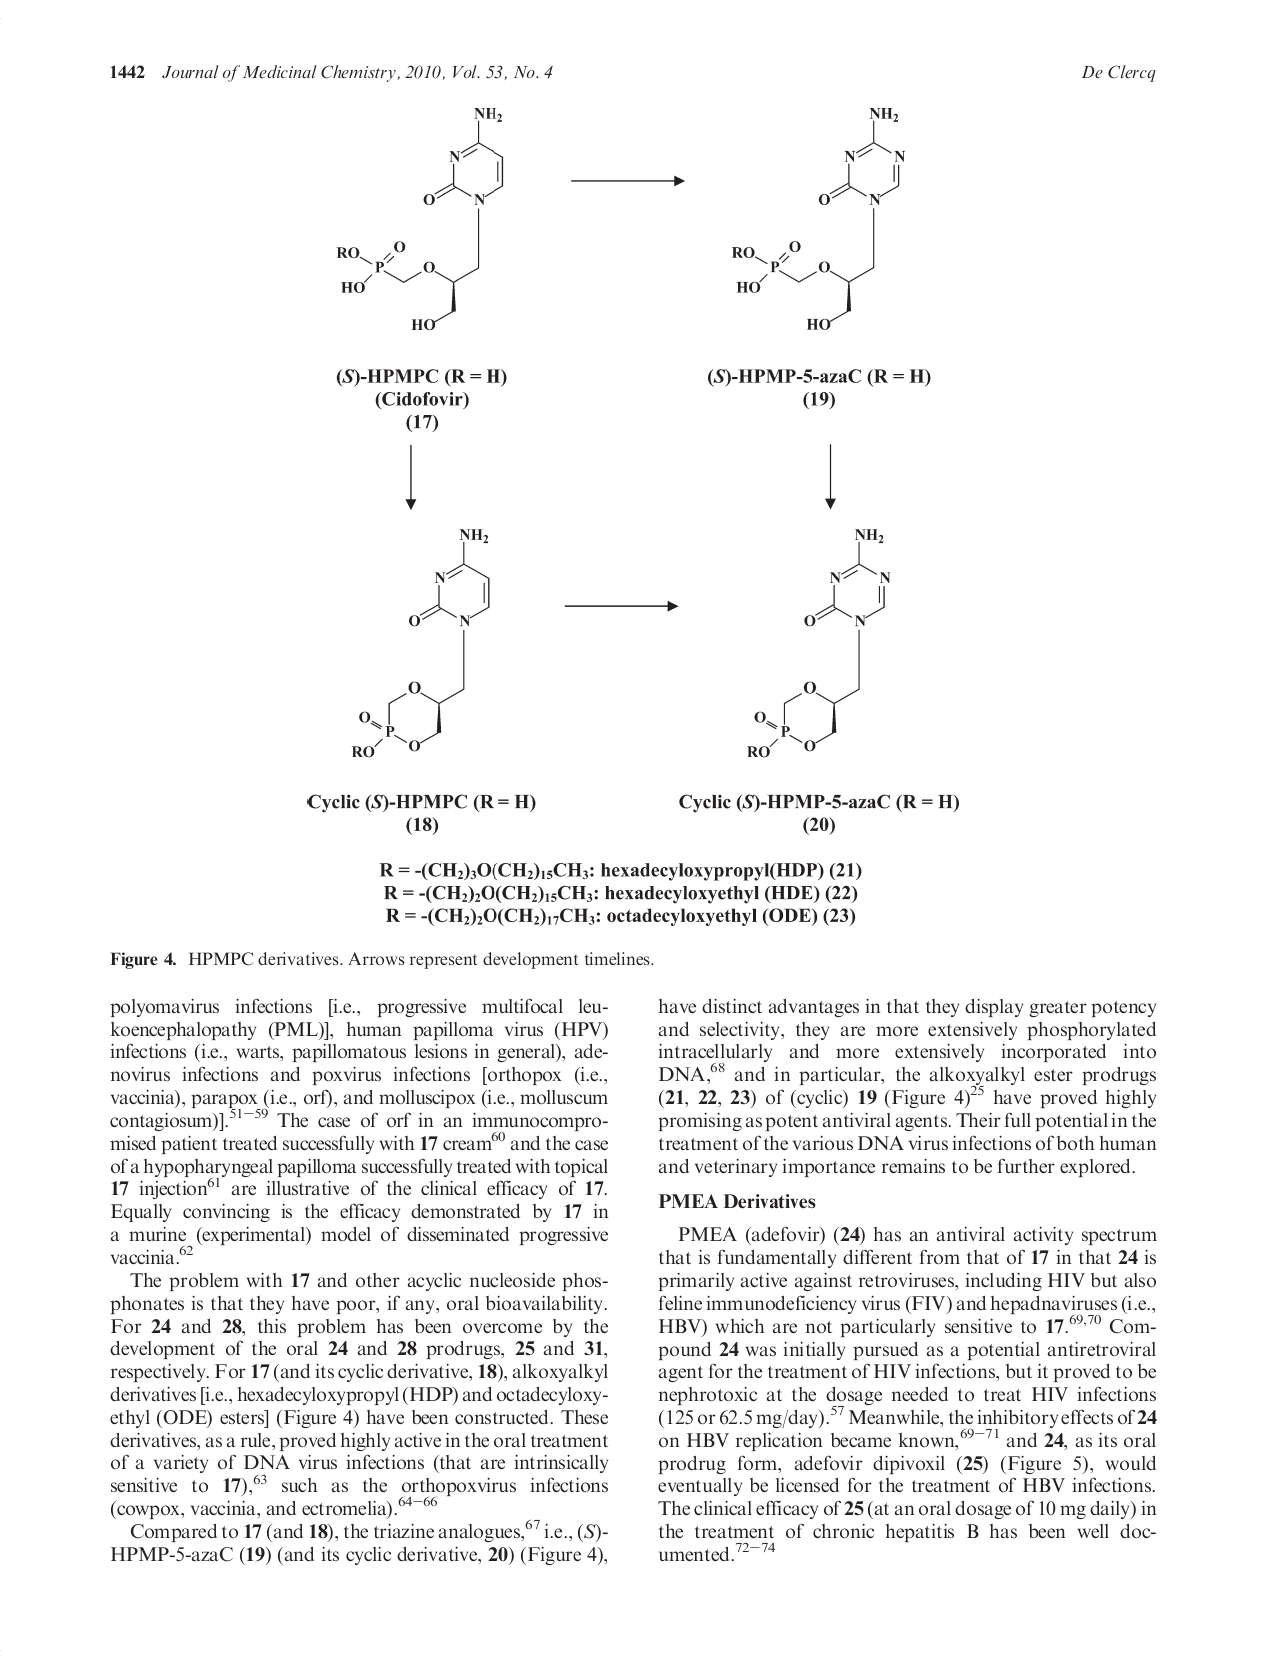exist_molecular: (730, 104, 910, 332), (335, 104, 504, 332), (743, 527, 892, 759), (347, 527, 491, 762)
